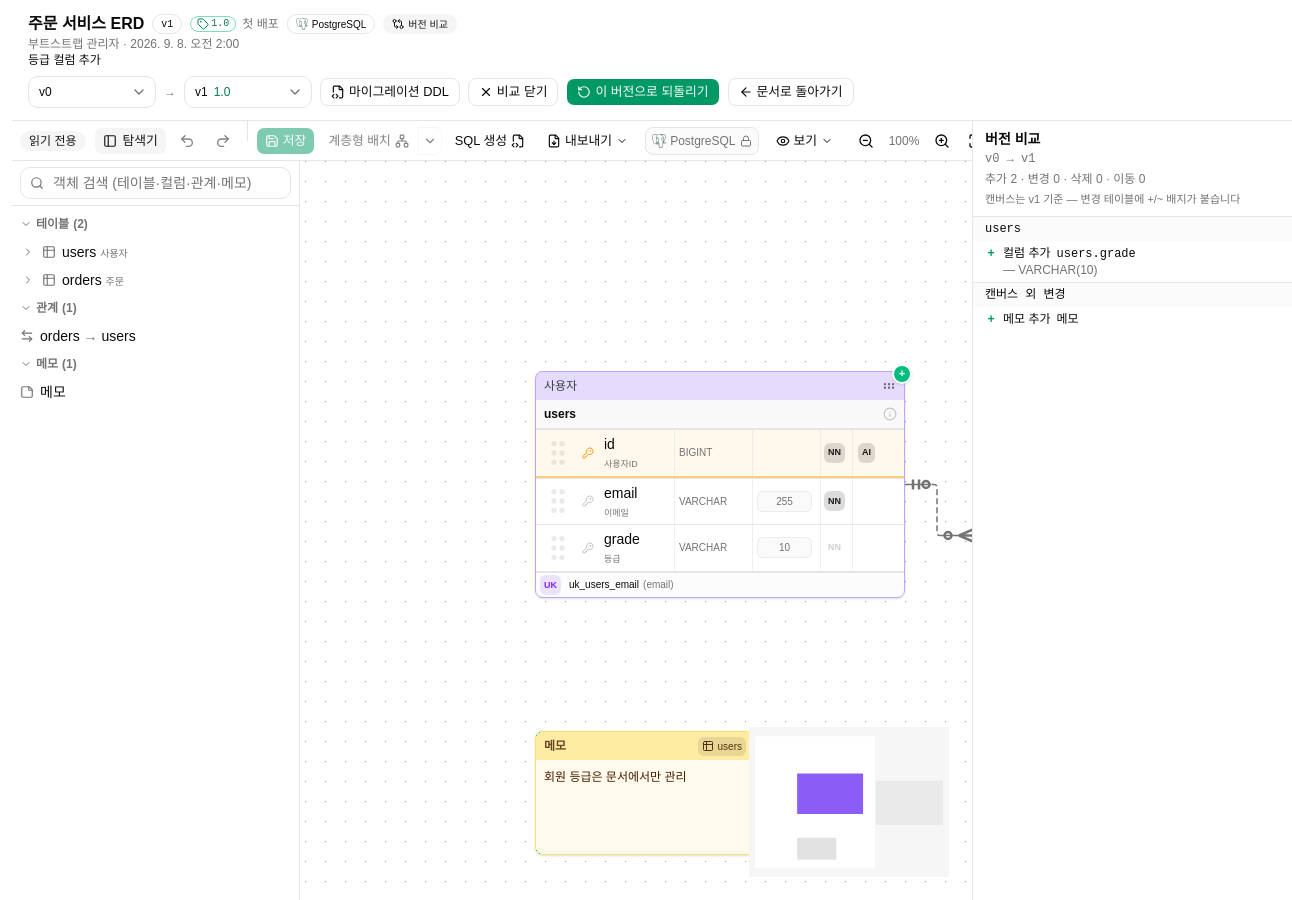
Test: 버전 기록 뷰어 — 비교 모드 (?compare=N) › 비교 대상(새 버전) 선택 — v1?compare=0에서 대상을 v3로 바꾸면 기준(v0)을 유지한 채 경로가 바뀐다
Check: the element with test id "compare-badge" is shown, box [383,14,457,34]
Click the dropdown named "비교 버전".
click(248, 92)  # box [184,76,312,108]
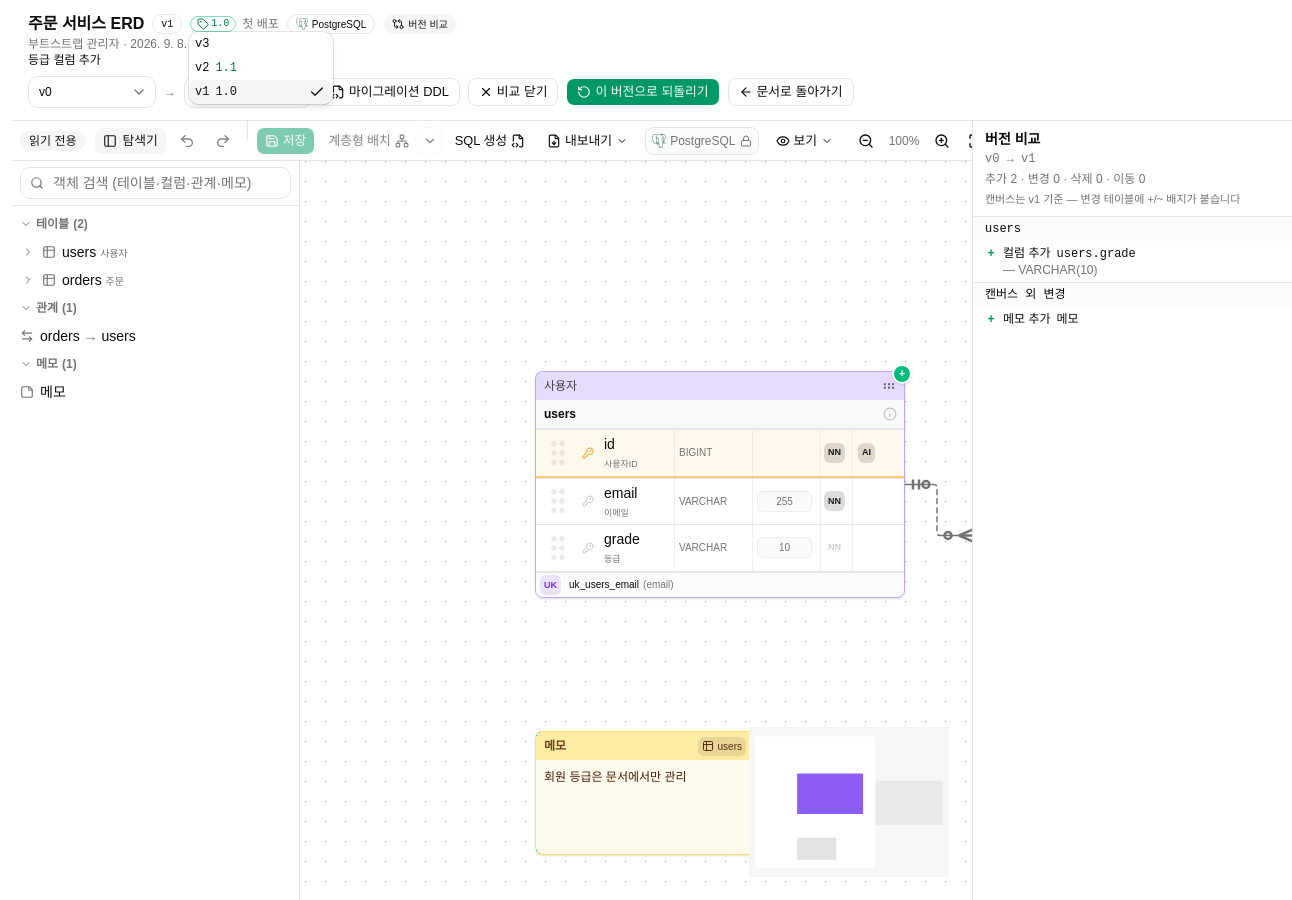
Click the option "v3".
click(202, 44)  # box [195,37,209,51]
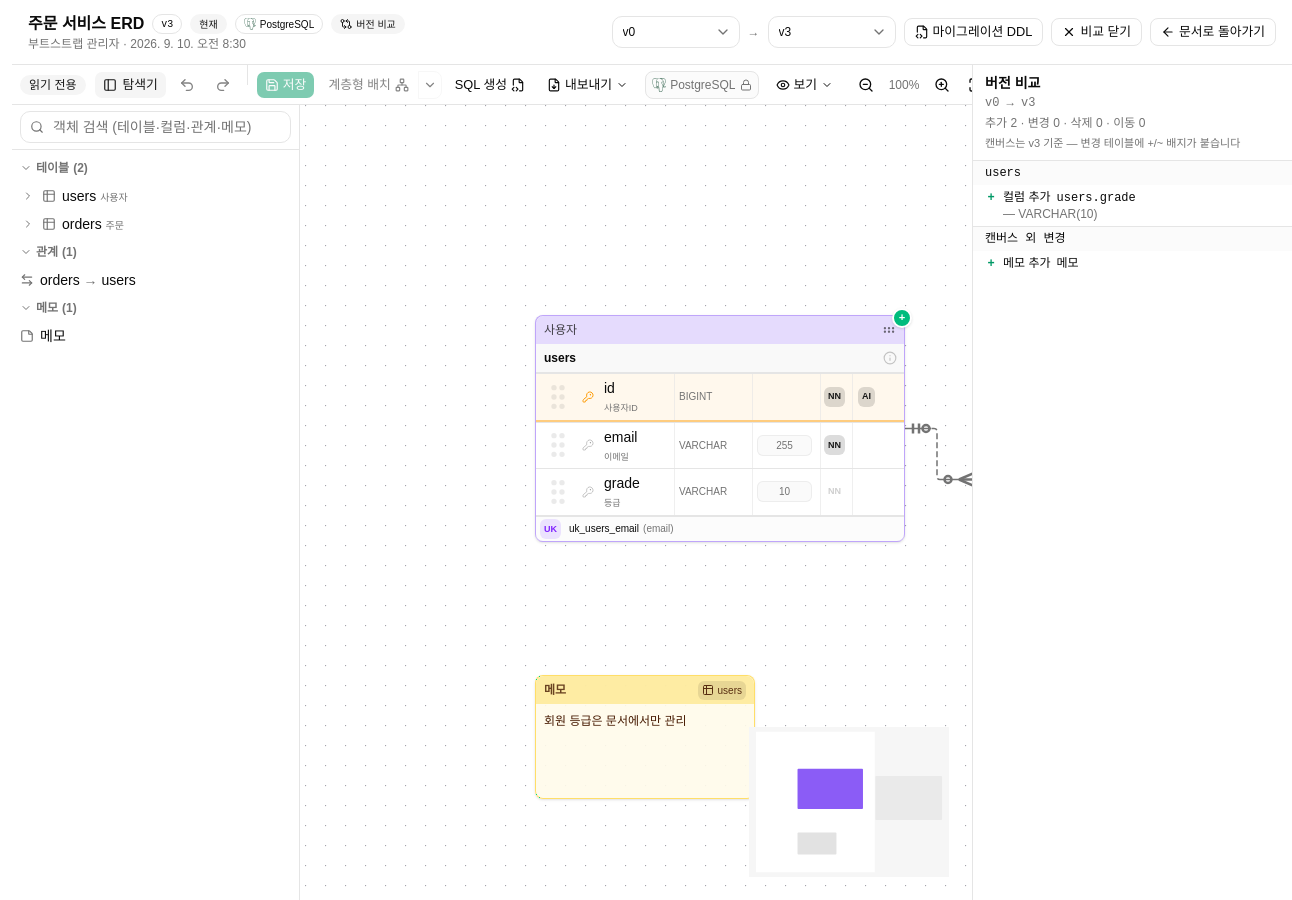
Check: the text "users.grade" is shown, box [1056,190,1136,204]
Check: the text "v0 → v3" is shown, box [985,96,1035,110]
